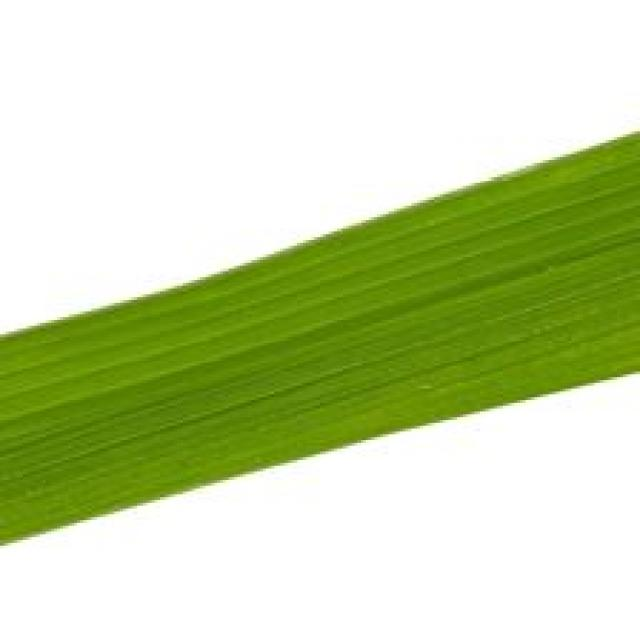Rice___Healthy_Rice_Plant: (0, 133, 637, 548)
